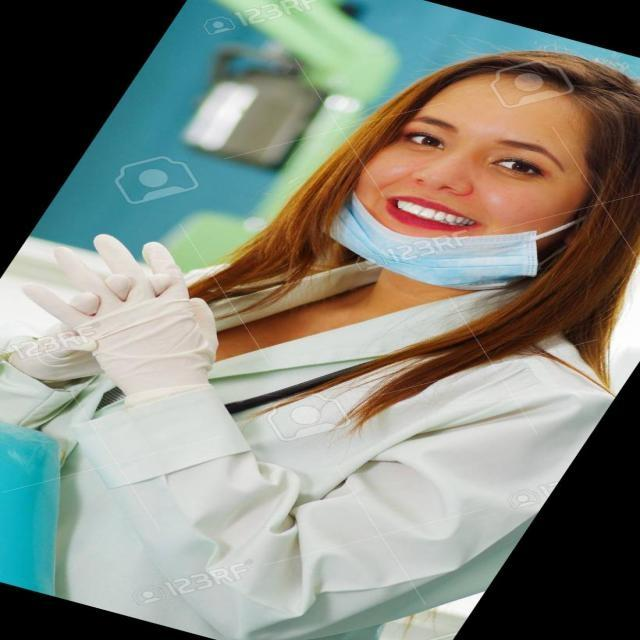hairnet: (328, 87, 626, 275)
